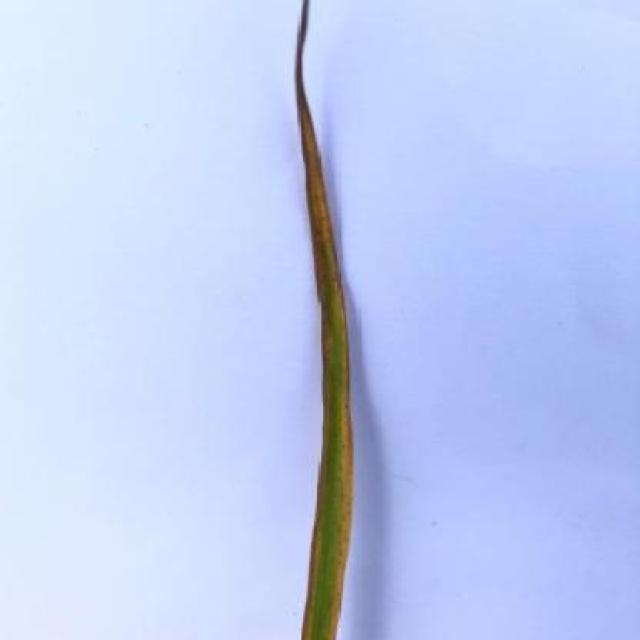Rice False Smut: (296, 2, 354, 639)
